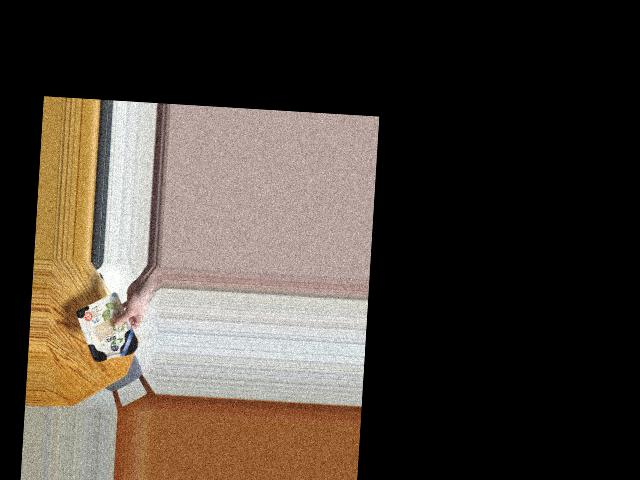cheese: (77, 297, 144, 364)
